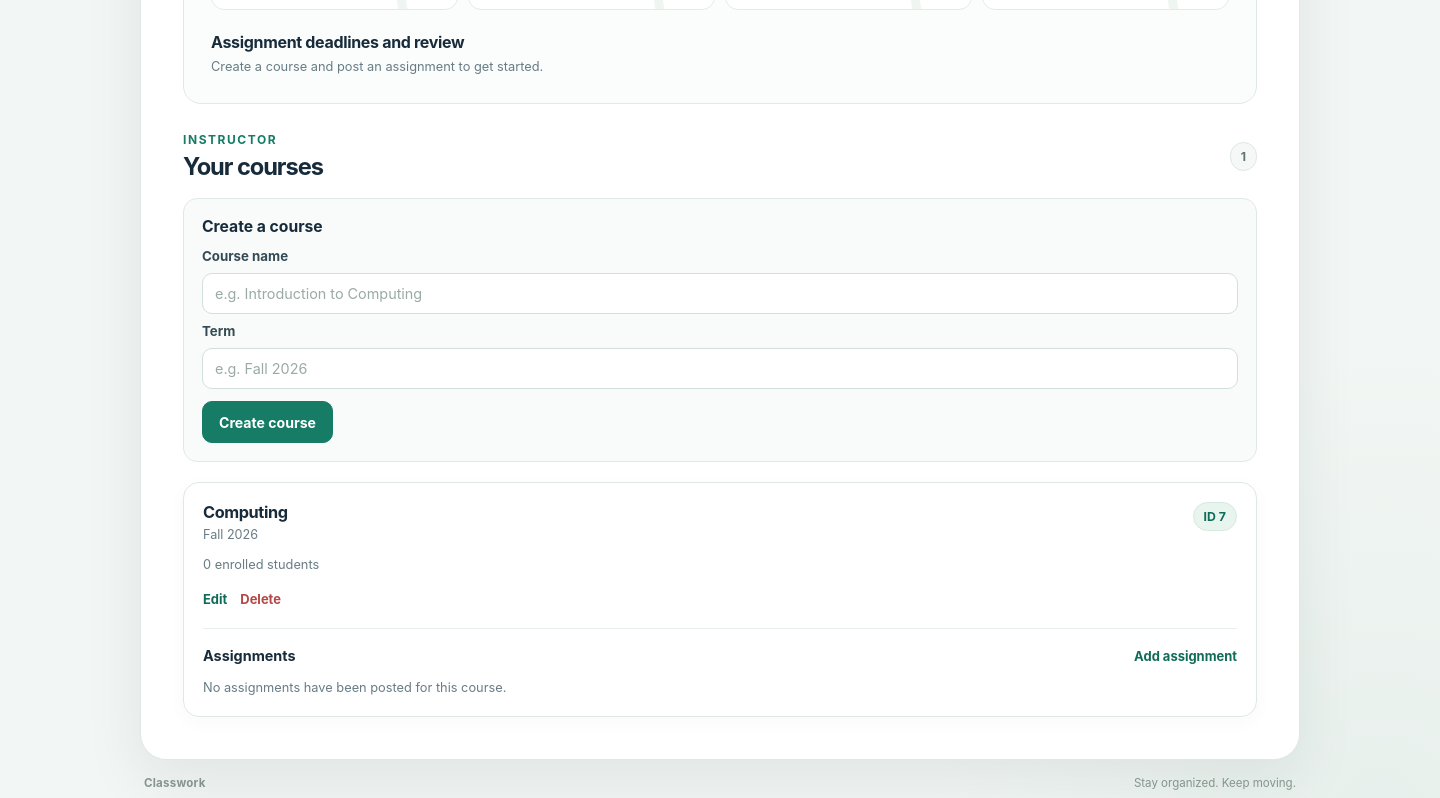
Test: an instructor can edit and delete an empty course
(page scrolled)
Click the button "Edit".
click(215, 598)  # box [203, 586, 227, 610]
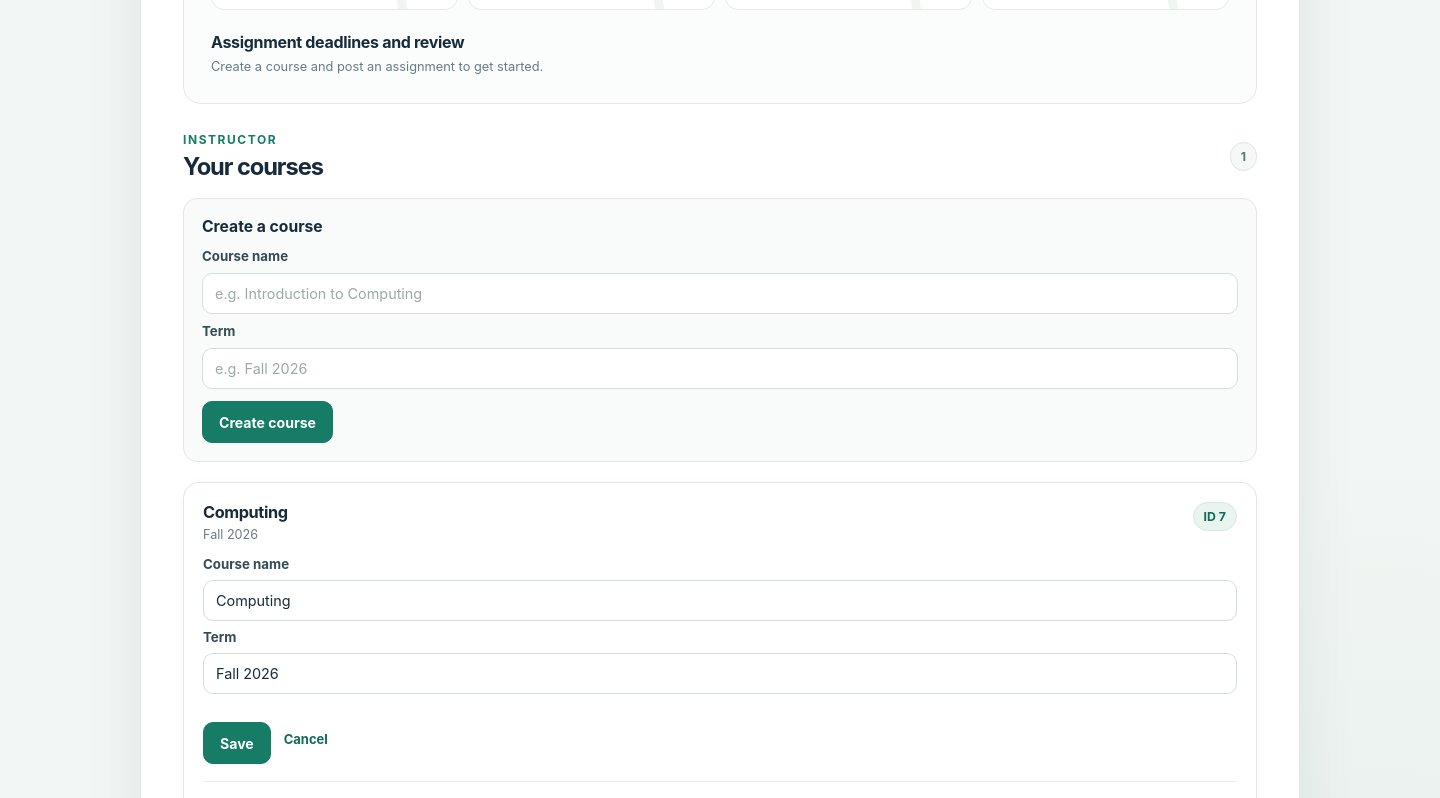
Replace the text in the field labelled "Course name" below "Fall 2026" with "Computer Science" at (720, 601), box [203, 580, 1237, 621]
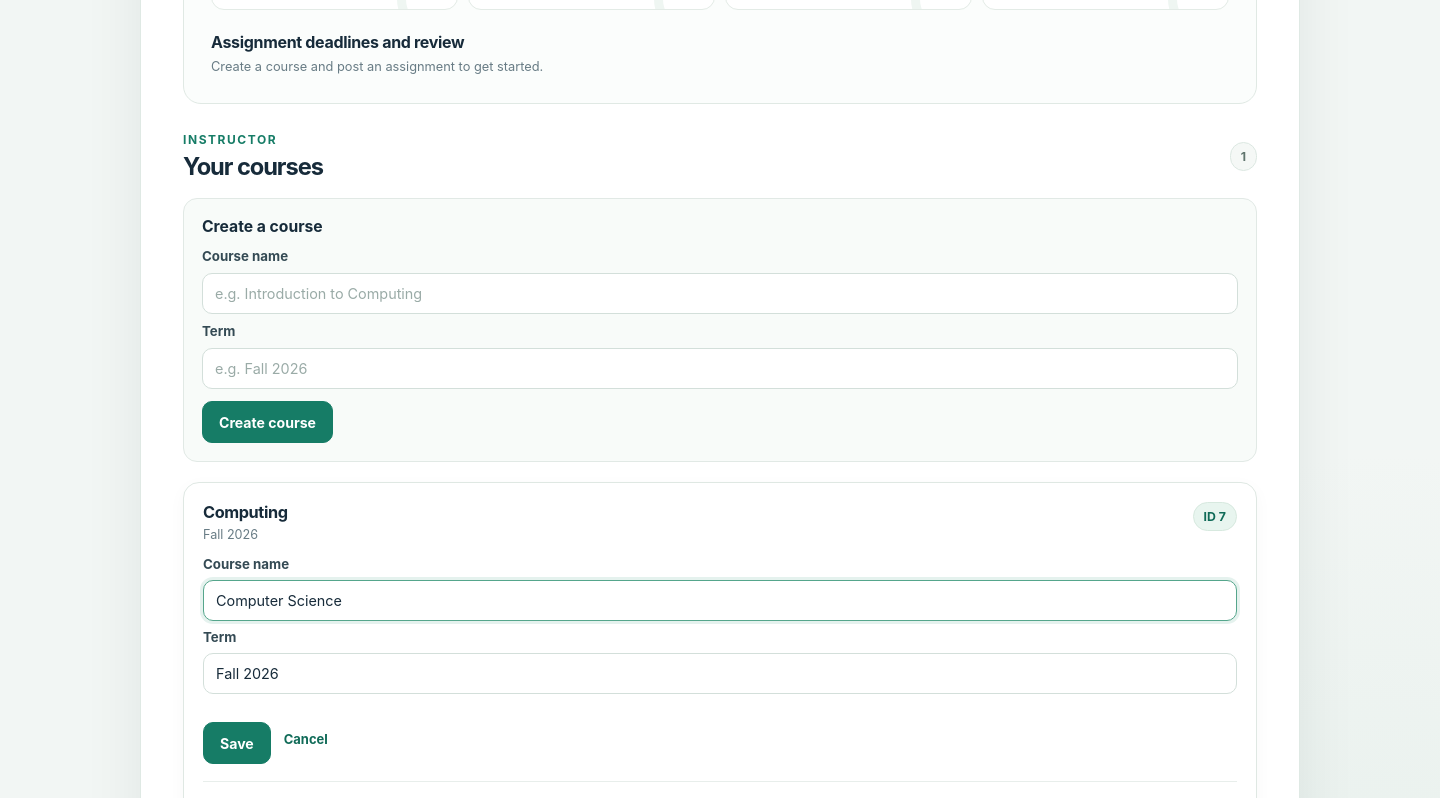
Click the button "Save".
click(237, 743)  # box [203, 722, 271, 764]
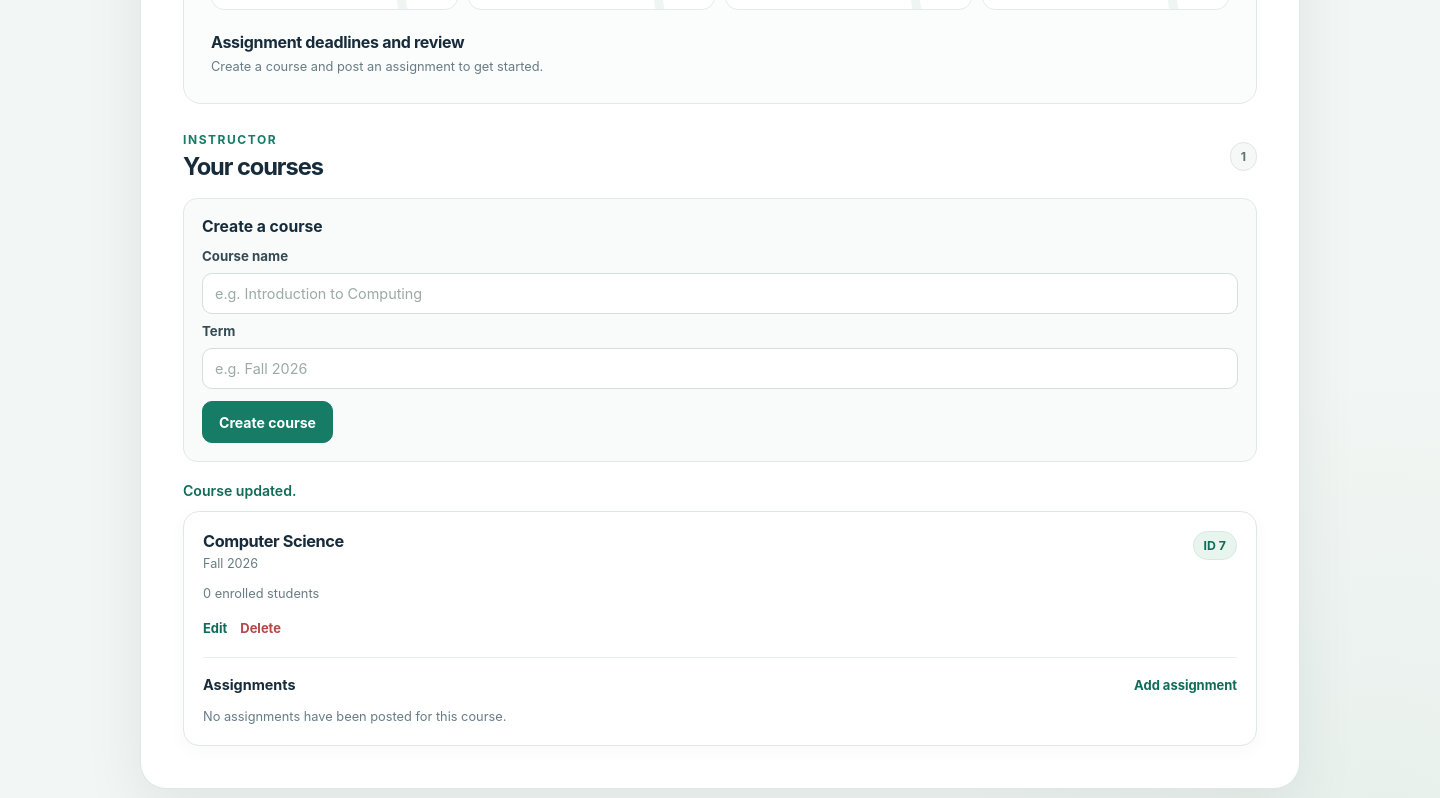
Check: the text "Course updated." is shown, box [183, 482, 296, 499]
Click the button "Delete".
click(261, 628)  # box [240, 616, 281, 640]
(page scrolled)
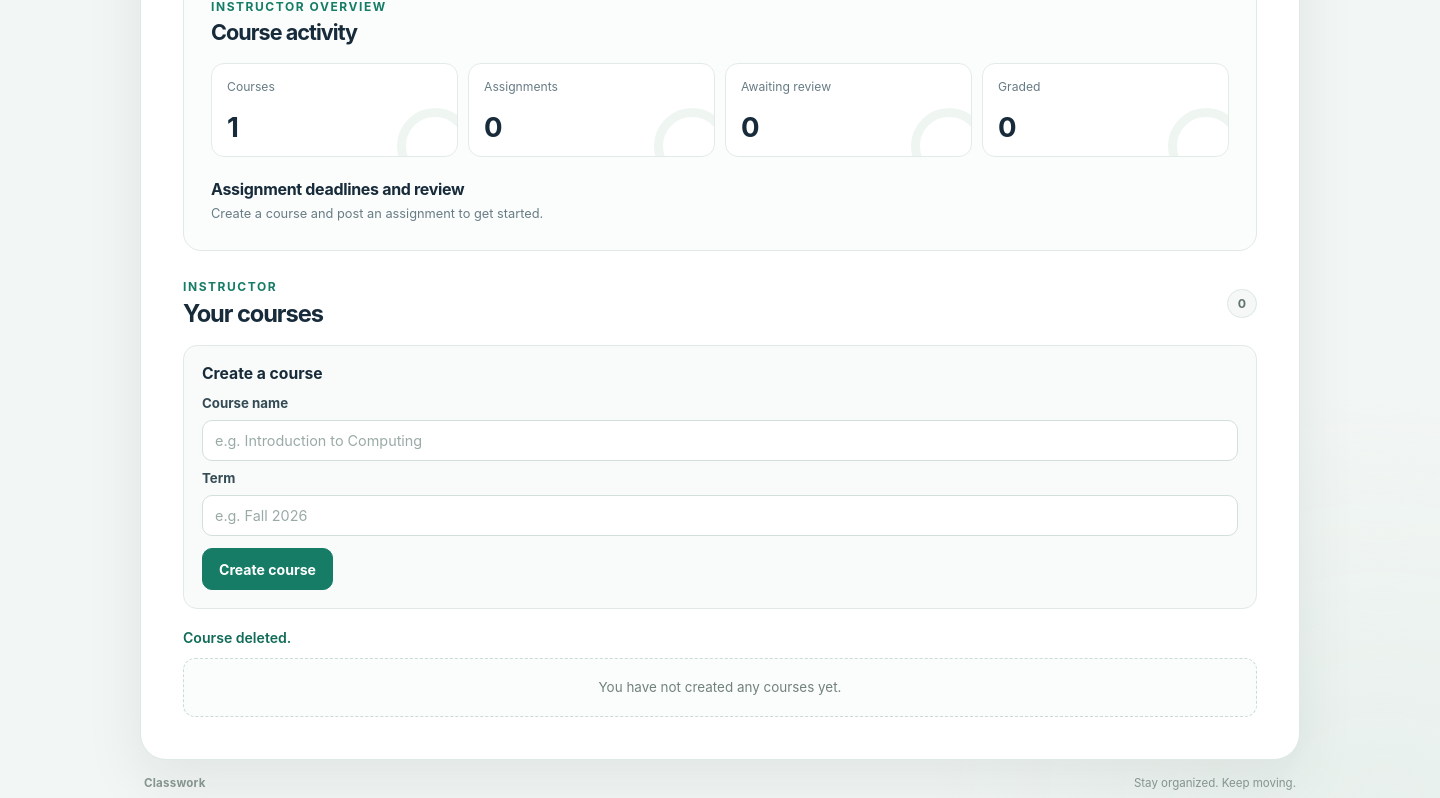
Check: the text "You have not created any courses yet." is shown, box [183, 658, 1257, 717]
